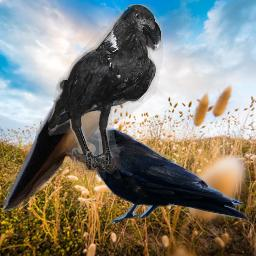Crow: (48, 4, 163, 172), (77, 128, 250, 224)
Swallow: (3, 52, 113, 215)
